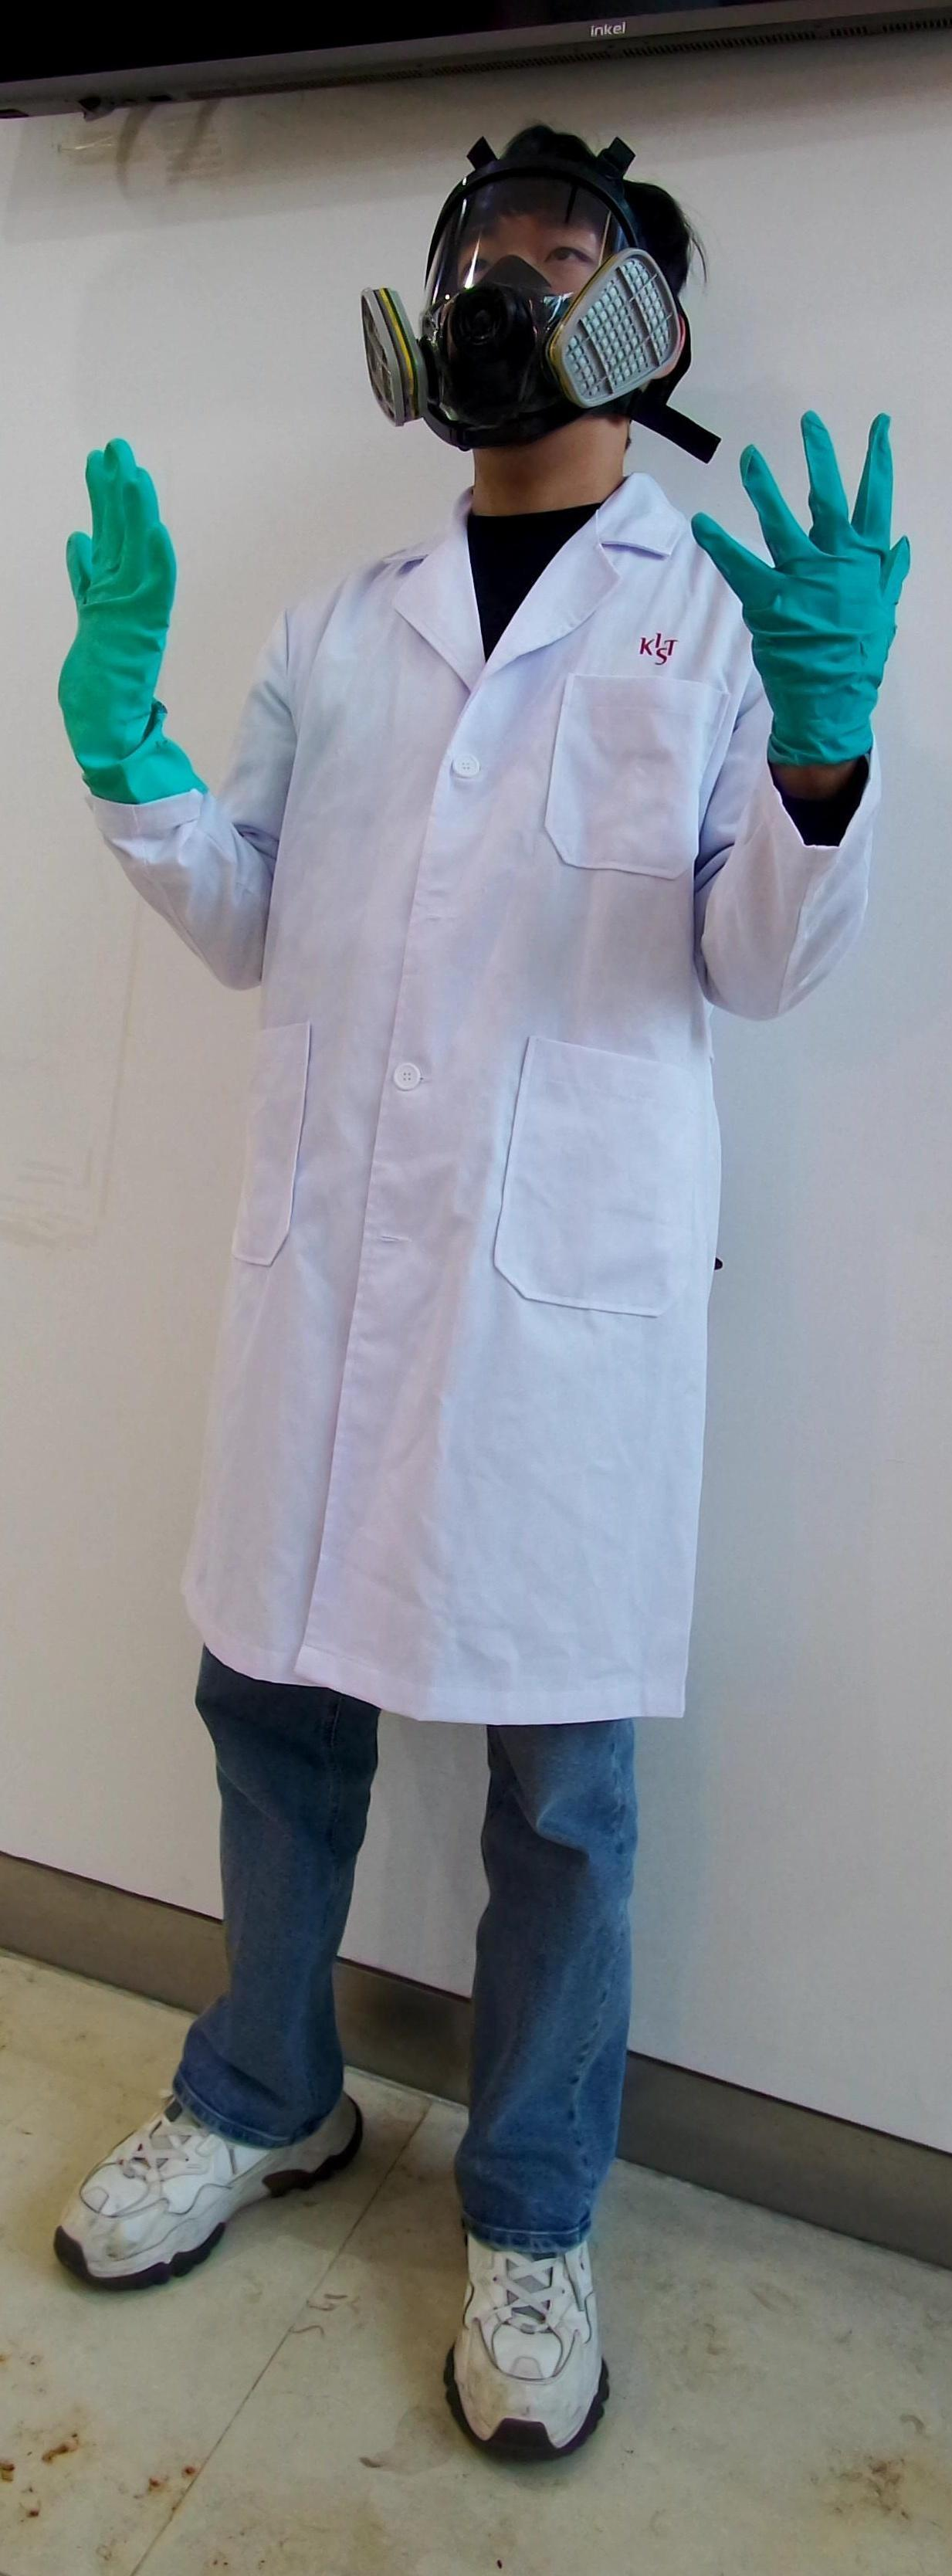lab_coat: (241, 534, 742, 1661)
